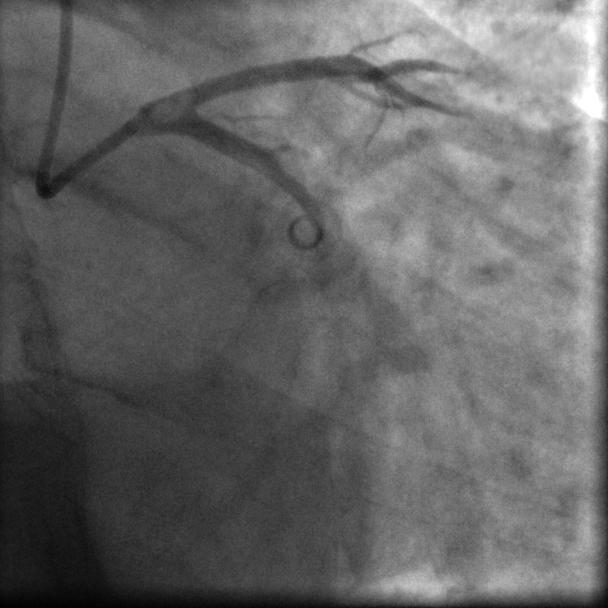Stenosis: (266, 137, 301, 159)
